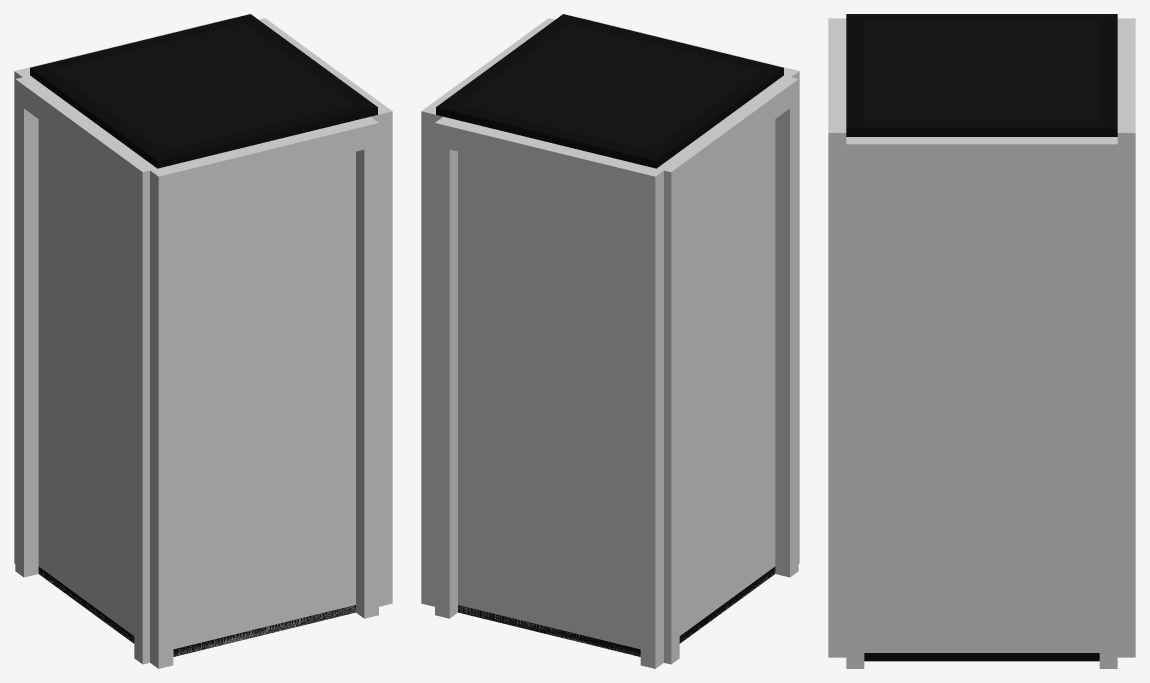
The model's file is DungeonCell.gltf.
3 renders of one model, left to right at view 1: azimuth 30°, elevation 25°; view 2: azimuth 150°, elevation 25°; view 3: azimuth 270°, elevation 25°, orthographic. The views are drawn at different scales.
Parts seen in each view (by area): view 1: wall (×2), door (×9), floor (×2); view 2: wall (×2), door (×9), floor (×2); view 3: wall, door (×7), floor (×2).
Boxes of the visible parts, left/top/right/bottom form: wall (×2): left=38, top=115, right=377, bottom=656; door (×9): left=14, top=18, right=392, bottom=668; floor (×2): left=30, top=14, right=377, bottom=656; wall (×2): left=436, top=115, right=775, bottom=656; door (×9): left=421, top=18, right=799, bottom=668; floor (×2): left=436, top=14, right=783, bottom=656; wall: left=864, top=169, right=1099, bottom=652; door (×7): left=828, top=19, right=1135, bottom=668; floor (×2): left=846, top=14, right=1117, bottom=661.
Size of the model in its own units: 1.06 by 2.03 by 1.06.
Materials: 2 (1 with a texture image).
